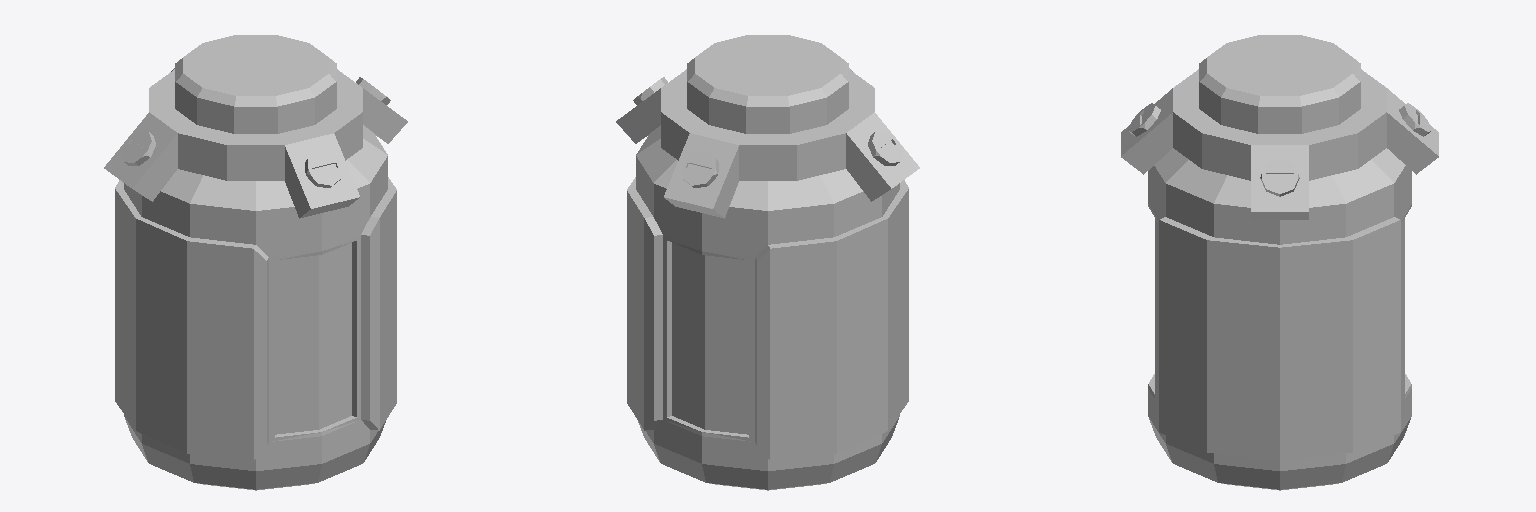
Rendered from Pickup_Tank_Cylinder_001.obj.
The picture shows the model from 3 angles: view 1: azimuth 30°, elevation 25°; view 2: azimuth 150°, elevation 25°; view 3: azimuth 270°, elevation 25°; orthographic projection.
Visible parts, largest first — view 1: Pickup_Tank_Cylinder.001; view 2: Pickup_Tank_Cylinder.001; view 3: Pickup_Tank_Cylinder.001.
Part boxes in pixels (left/top/right/bottom): Pickup_Tank_Cylinder.001: left=104, top=35, right=407, bottom=490; Pickup_Tank_Cylinder.001: left=616, top=35, right=919, bottom=490; Pickup_Tank_Cylinder.001: left=1121, top=35, right=1438, bottom=490.
Bounding box in the file's own units: 0.2007 × 0.2647 × 0.2007.